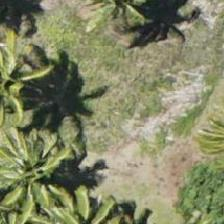coconut_tree: (0, 118, 74, 208), (0, 38, 46, 128)
